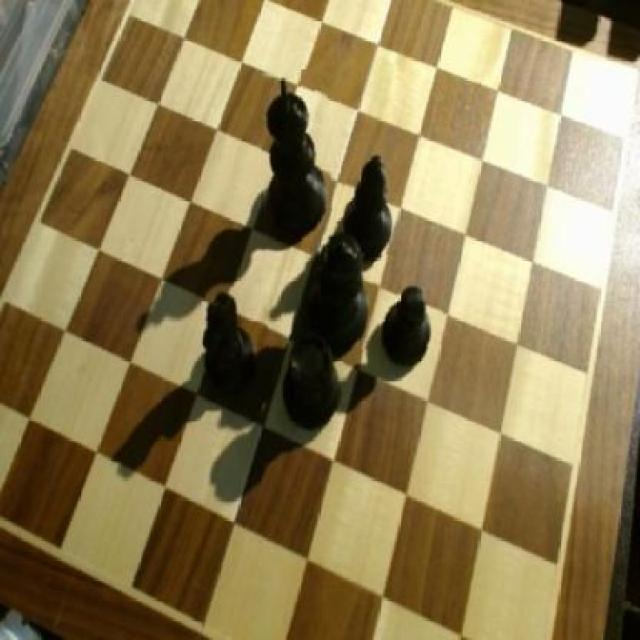bishop: (258, 71, 332, 236), (344, 151, 398, 255)
black-king: (203, 286, 270, 402)
black-knight: (380, 282, 445, 373)
black-pawn: (311, 226, 374, 351)
black-queen: (282, 336, 346, 432)
